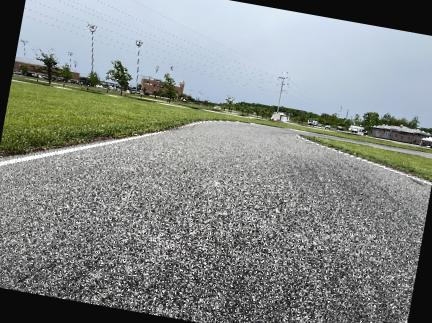Grass: (0, 81, 423, 154), (0, 81, 294, 154), (303, 136, 431, 180), (290, 123, 431, 153)
Lane: (0, 122, 430, 322)
